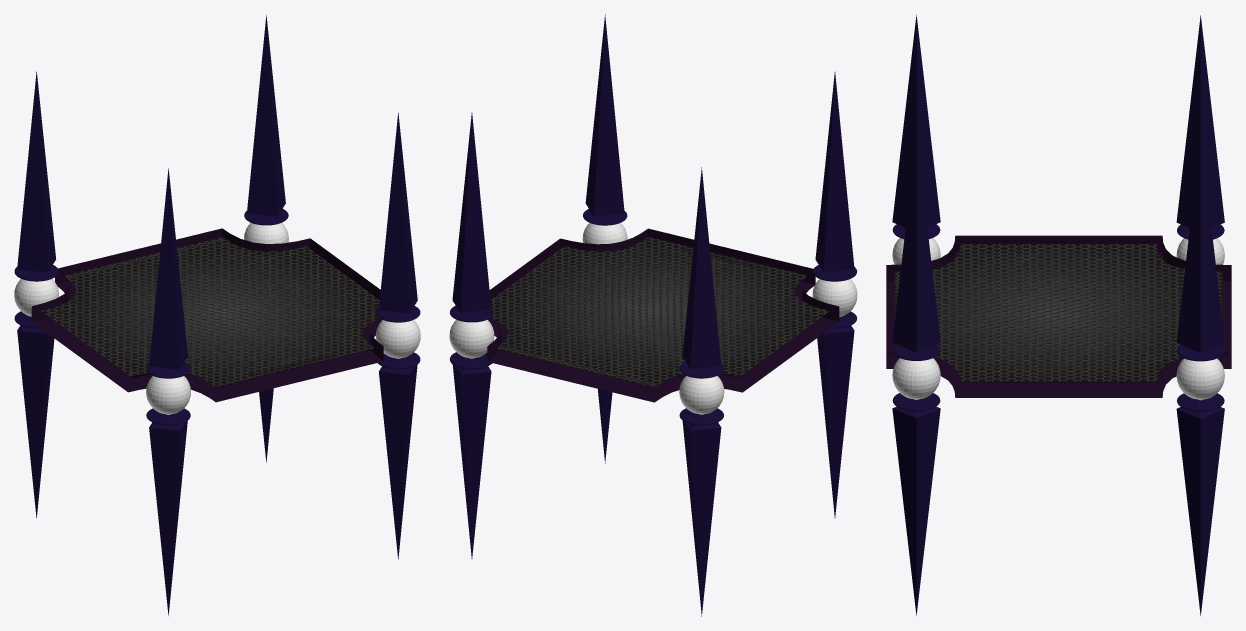
Rendered from platform2.fbx.
The picture shows the model from 3 angles, left to right: view 1: azimuth 30°, elevation 25°; view 2: azimuth 150°, elevation 25°; view 3: azimuth 270°, elevation 25°; orthographic projection. The views are drawn at different scales.
Parts seen in each view (by area): view 1: Basement, Sphere.002, Sphere, Sphere.003, Sphere.001; view 2: Basement, Sphere.003, Sphere.001, Sphere.002, Sphere; view 3: Basement, Sphere, Sphere.001, Sphere.002, Sphere.003.
Part boxes in pixels (x1,y1,x2,y2): Basement: (31, 228, 383, 402); Sphere.002: (146, 168, 190, 615); Sphere: (376, 113, 420, 559); Sphere.003: (14, 71, 58, 517); Sphere.001: (244, 15, 288, 462); Basement: (487, 228, 839, 402); Sphere.003: (679, 167, 724, 616); Sphere.001: (449, 112, 494, 558); Sphere.002: (812, 72, 857, 518); Sphere: (582, 14, 627, 463); Basement: (886, 235, 1231, 397); Sphere: (892, 135, 940, 615); Sphere.001: (1176, 135, 1224, 615); Sphere.002: (892, 14, 940, 264); Sphere.003: (1176, 15, 1224, 264).
Size of the model in its own units: 1001 by 1542 by 1001.
4 materials, 1 textured.
